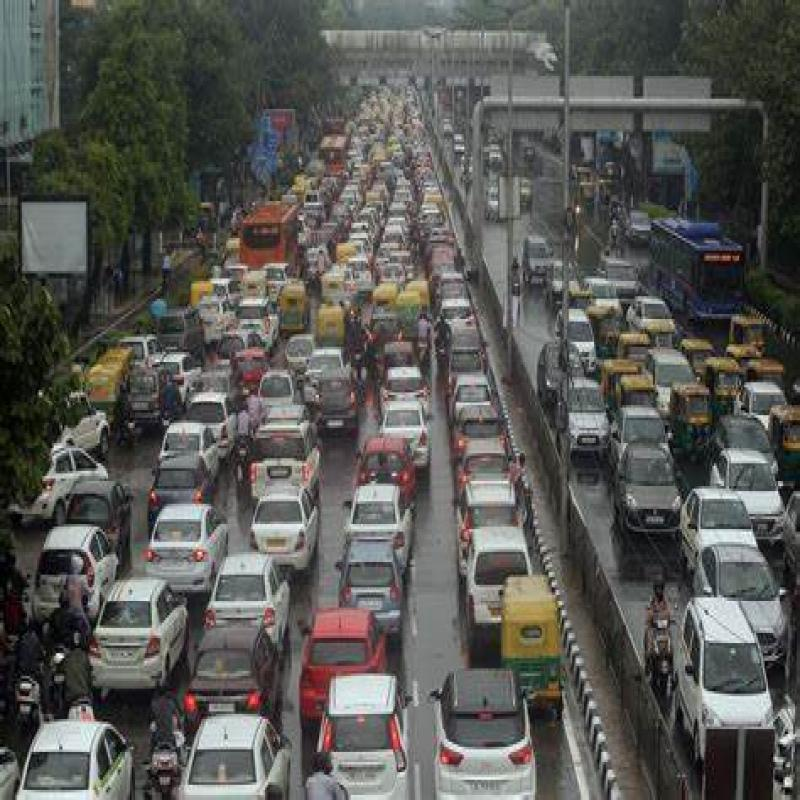auto: (705, 351, 747, 418), (616, 325, 659, 389), (782, 406, 800, 472)
car: (680, 591, 762, 745), (436, 668, 519, 784), (317, 680, 393, 800), (187, 711, 273, 800), (620, 446, 693, 547), (466, 524, 549, 611), (148, 505, 233, 584), (250, 422, 330, 498), (208, 539, 286, 616), (297, 625, 381, 687), (304, 355, 364, 437), (345, 547, 404, 624), (567, 370, 612, 464), (456, 406, 510, 480), (384, 397, 436, 467), (346, 484, 414, 534)
